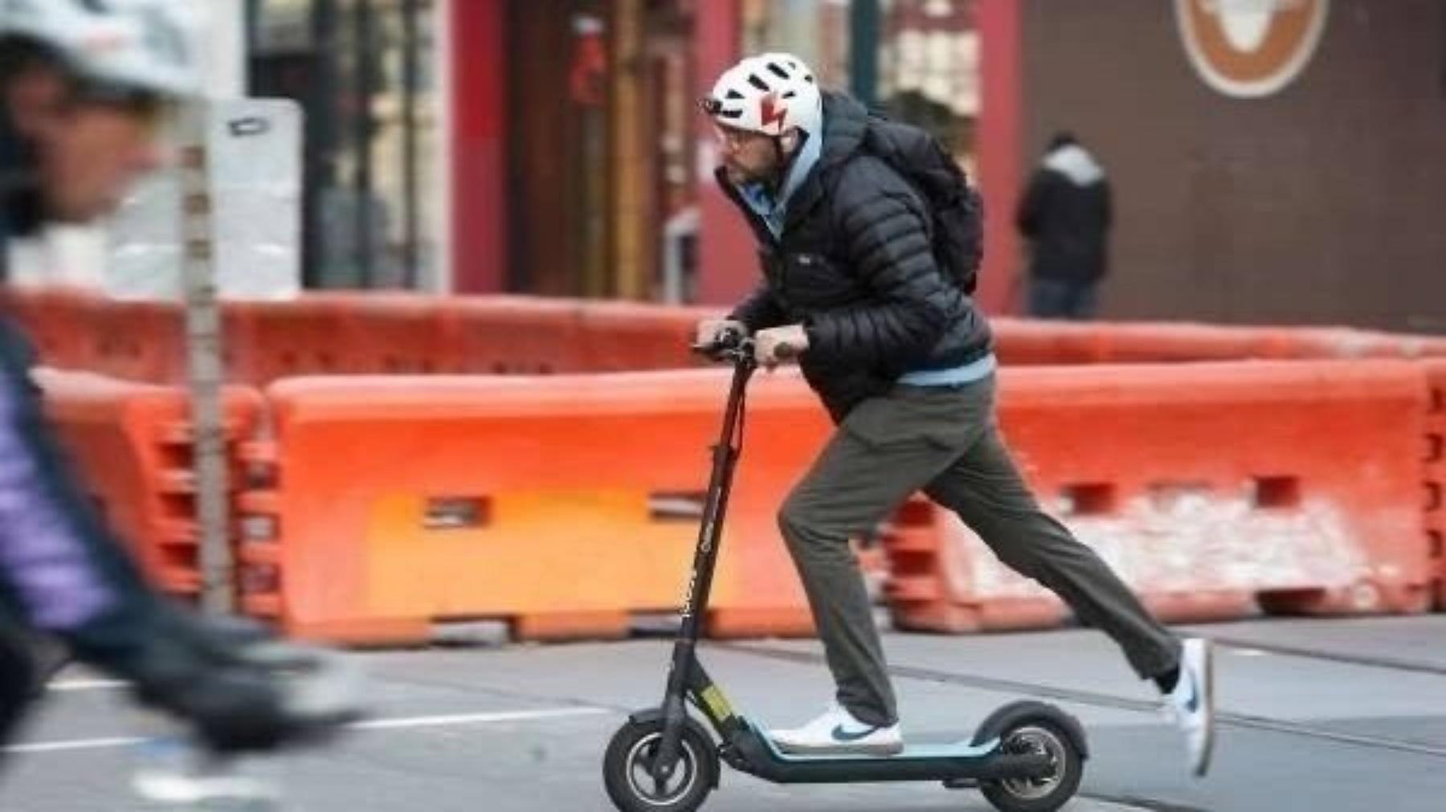helmet: (699, 48, 835, 193)
human: (696, 57, 1200, 723)
kickboard: (603, 687, 1085, 812)
